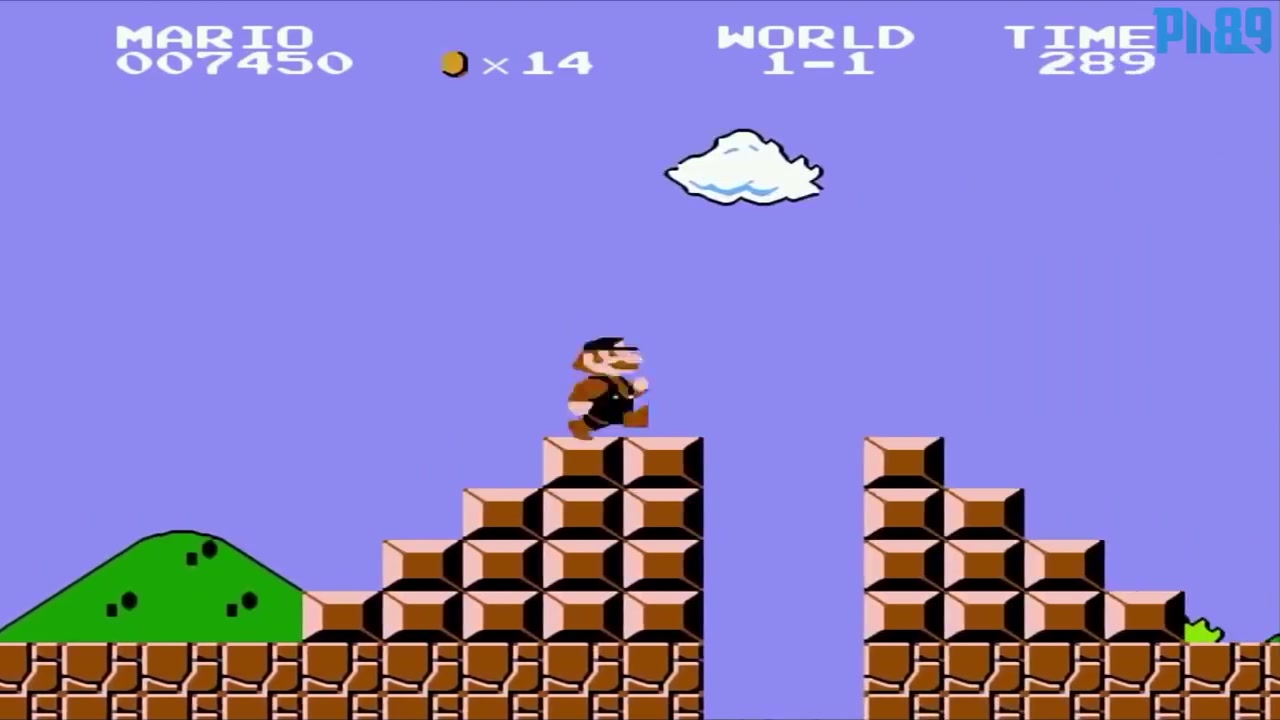mario: (567, 318, 660, 442)
